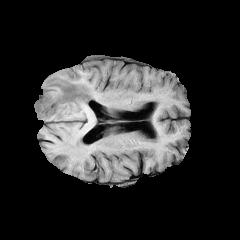glioma: (35, 78, 93, 120)
